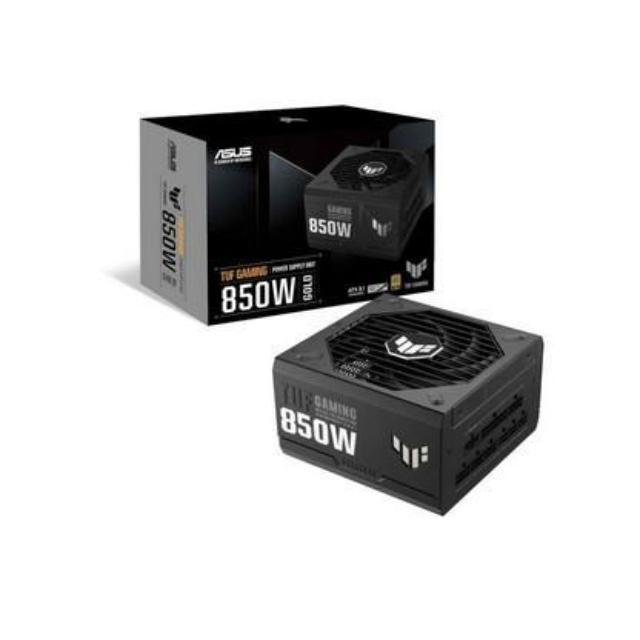PSU: (245, 279, 577, 519)
